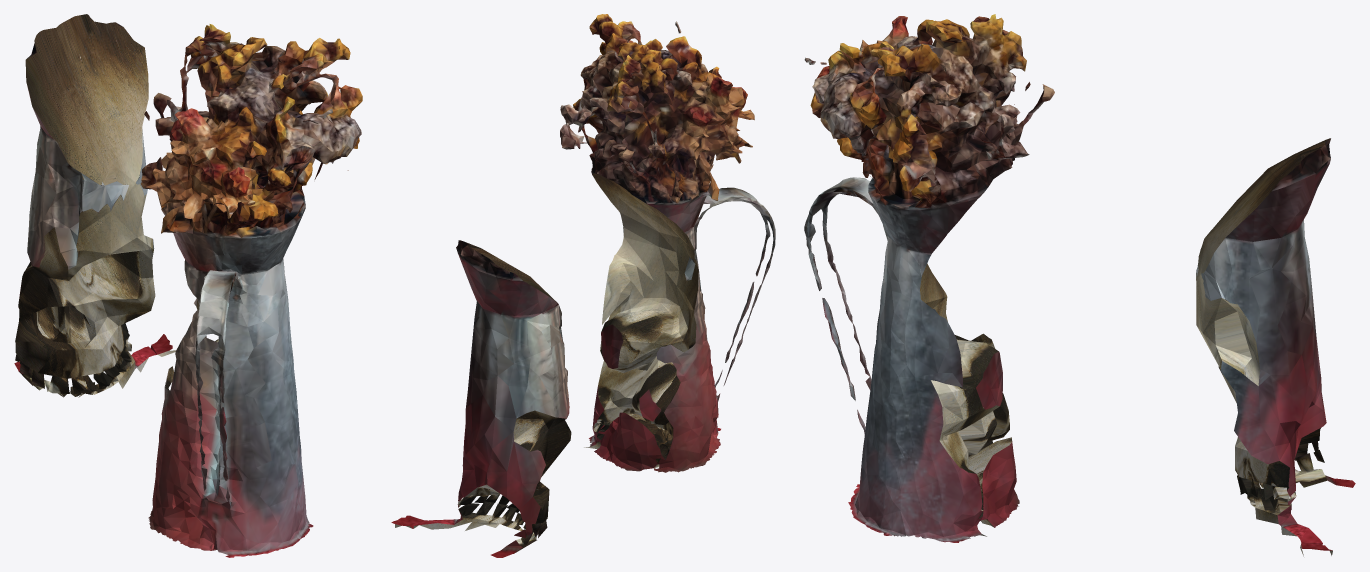
Rendered from Bouquet-Skull_duoSMALLglb.glb.
3 views of the same model, side by side, from view 1: azimuth 30°, elevation 25°; view 2: azimuth 150°, elevation 25°; view 3: azimuth 270°, elevation 25° (orthographic). The views are drawn at different scales.
Parts seen in each view (by area): view 1: Scaniverse_2024_09_22_123409, Scaniverse_2024_09_22_123409.001; view 2: Scaniverse_2024_09_22_123409, Scaniverse_2024_09_22_123409.001; view 3: Scaniverse_2024_09_22_123409, Scaniverse_2024_09_22_123409.001.
Part boxes in pixels (left/top/right/bottom): Scaniverse_2024_09_22_123409: left=140, top=24, right=362, bottom=557; Scaniverse_2024_09_22_123409.001: left=14, top=14, right=175, bottom=397; Scaniverse_2024_09_22_123409: left=560, top=14, right=775, bottom=472; Scaniverse_2024_09_22_123409.001: left=391, top=240, right=571, bottom=557; Scaniverse_2024_09_22_123409: left=804, top=14, right=1054, bottom=542; Scaniverse_2024_09_22_123409.001: left=1196, top=138, right=1355, bottom=556.
Bounding box in the file's own units: 1.9 × 4 × 3.97.
2 materials, 2 textured.
